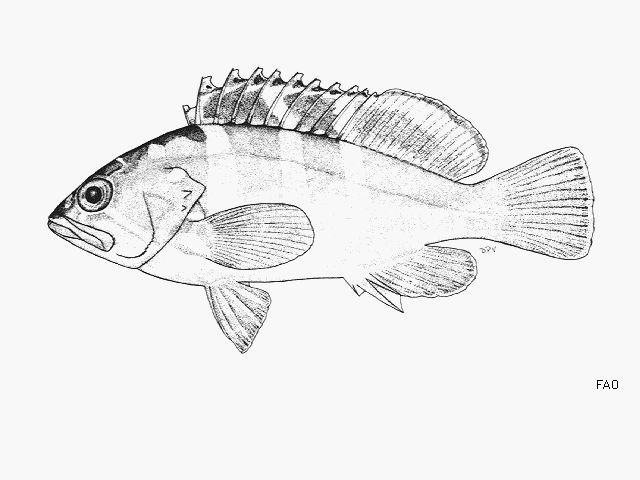fish: (47, 66, 596, 354)
